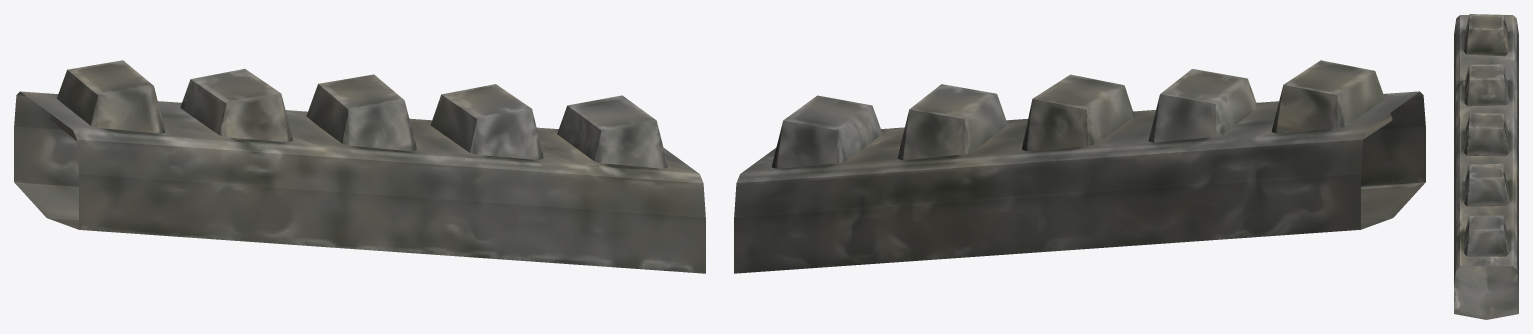
The model's file is wall_low_diagonal.obj.
The picture shows the model from 3 angles, left to right: view 1: azimuth 30°, elevation 25°; view 2: azimuth 150°, elevation 25°; view 3: azimuth 270°, elevation 25°; orthographic projection. The views are drawn at different scales.
Parts seen in each view (by area): view 1: wall_low_diagonal; view 2: wall_low_diagonal; view 3: wall_low_diagonal.
Part boxes in pixels (x1,y1,x2,y2): wall_low_diagonal: (14, 60, 705, 273); wall_low_diagonal: (734, 60, 1425, 273); wall_low_diagonal: (1454, 14, 1518, 319).
Bounding box in the file's own units: 10 × 4.93 × 1.8.
